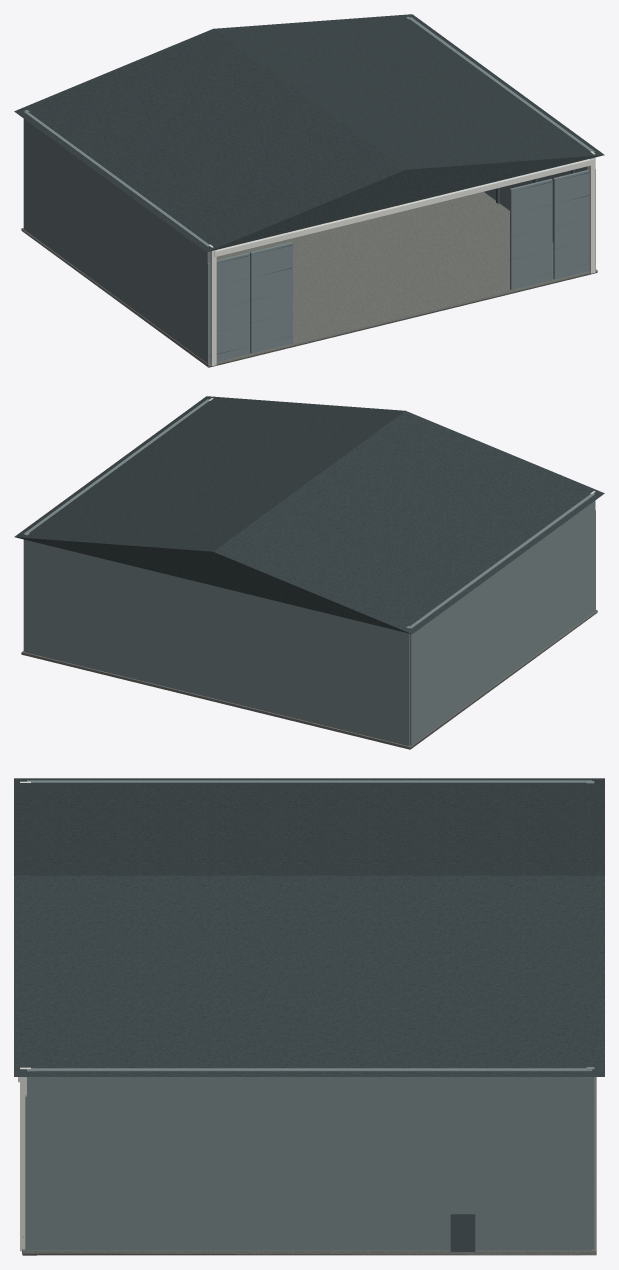
The model's file is Hangar_36x30_LOD2.glb.
3 views of the same model, one above another, from view 1: azimuth 30°, elevation 25°; view 2: azimuth 150°, elevation 25°; view 3: azimuth 270°, elevation 25° (orthographic). The views are drawn at different scales.
Parts seen in each view (by area): view 1: Hangar_36x30_export; view 2: Hangar_36x30_export; view 3: Hangar_36x30_export.
Part boxes in pixels (left/top/right/bottom): Hangar_36x30_export: left=14, top=14, right=604, bottom=367; Hangar_36x30_export: left=14, top=396, right=604, bottom=749; Hangar_36x30_export: left=14, top=778, right=604, bottom=1255.
Bounding box in the file's own units: 36.8 × 13.48 × 30.8.
Materials: 5 (2 with a texture image).
